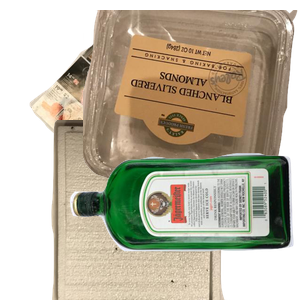glass: (67, 150, 300, 300)
paper: (27, 10, 230, 190)
plastic: (83, 10, 300, 190)
trash: (49, 120, 269, 300)
